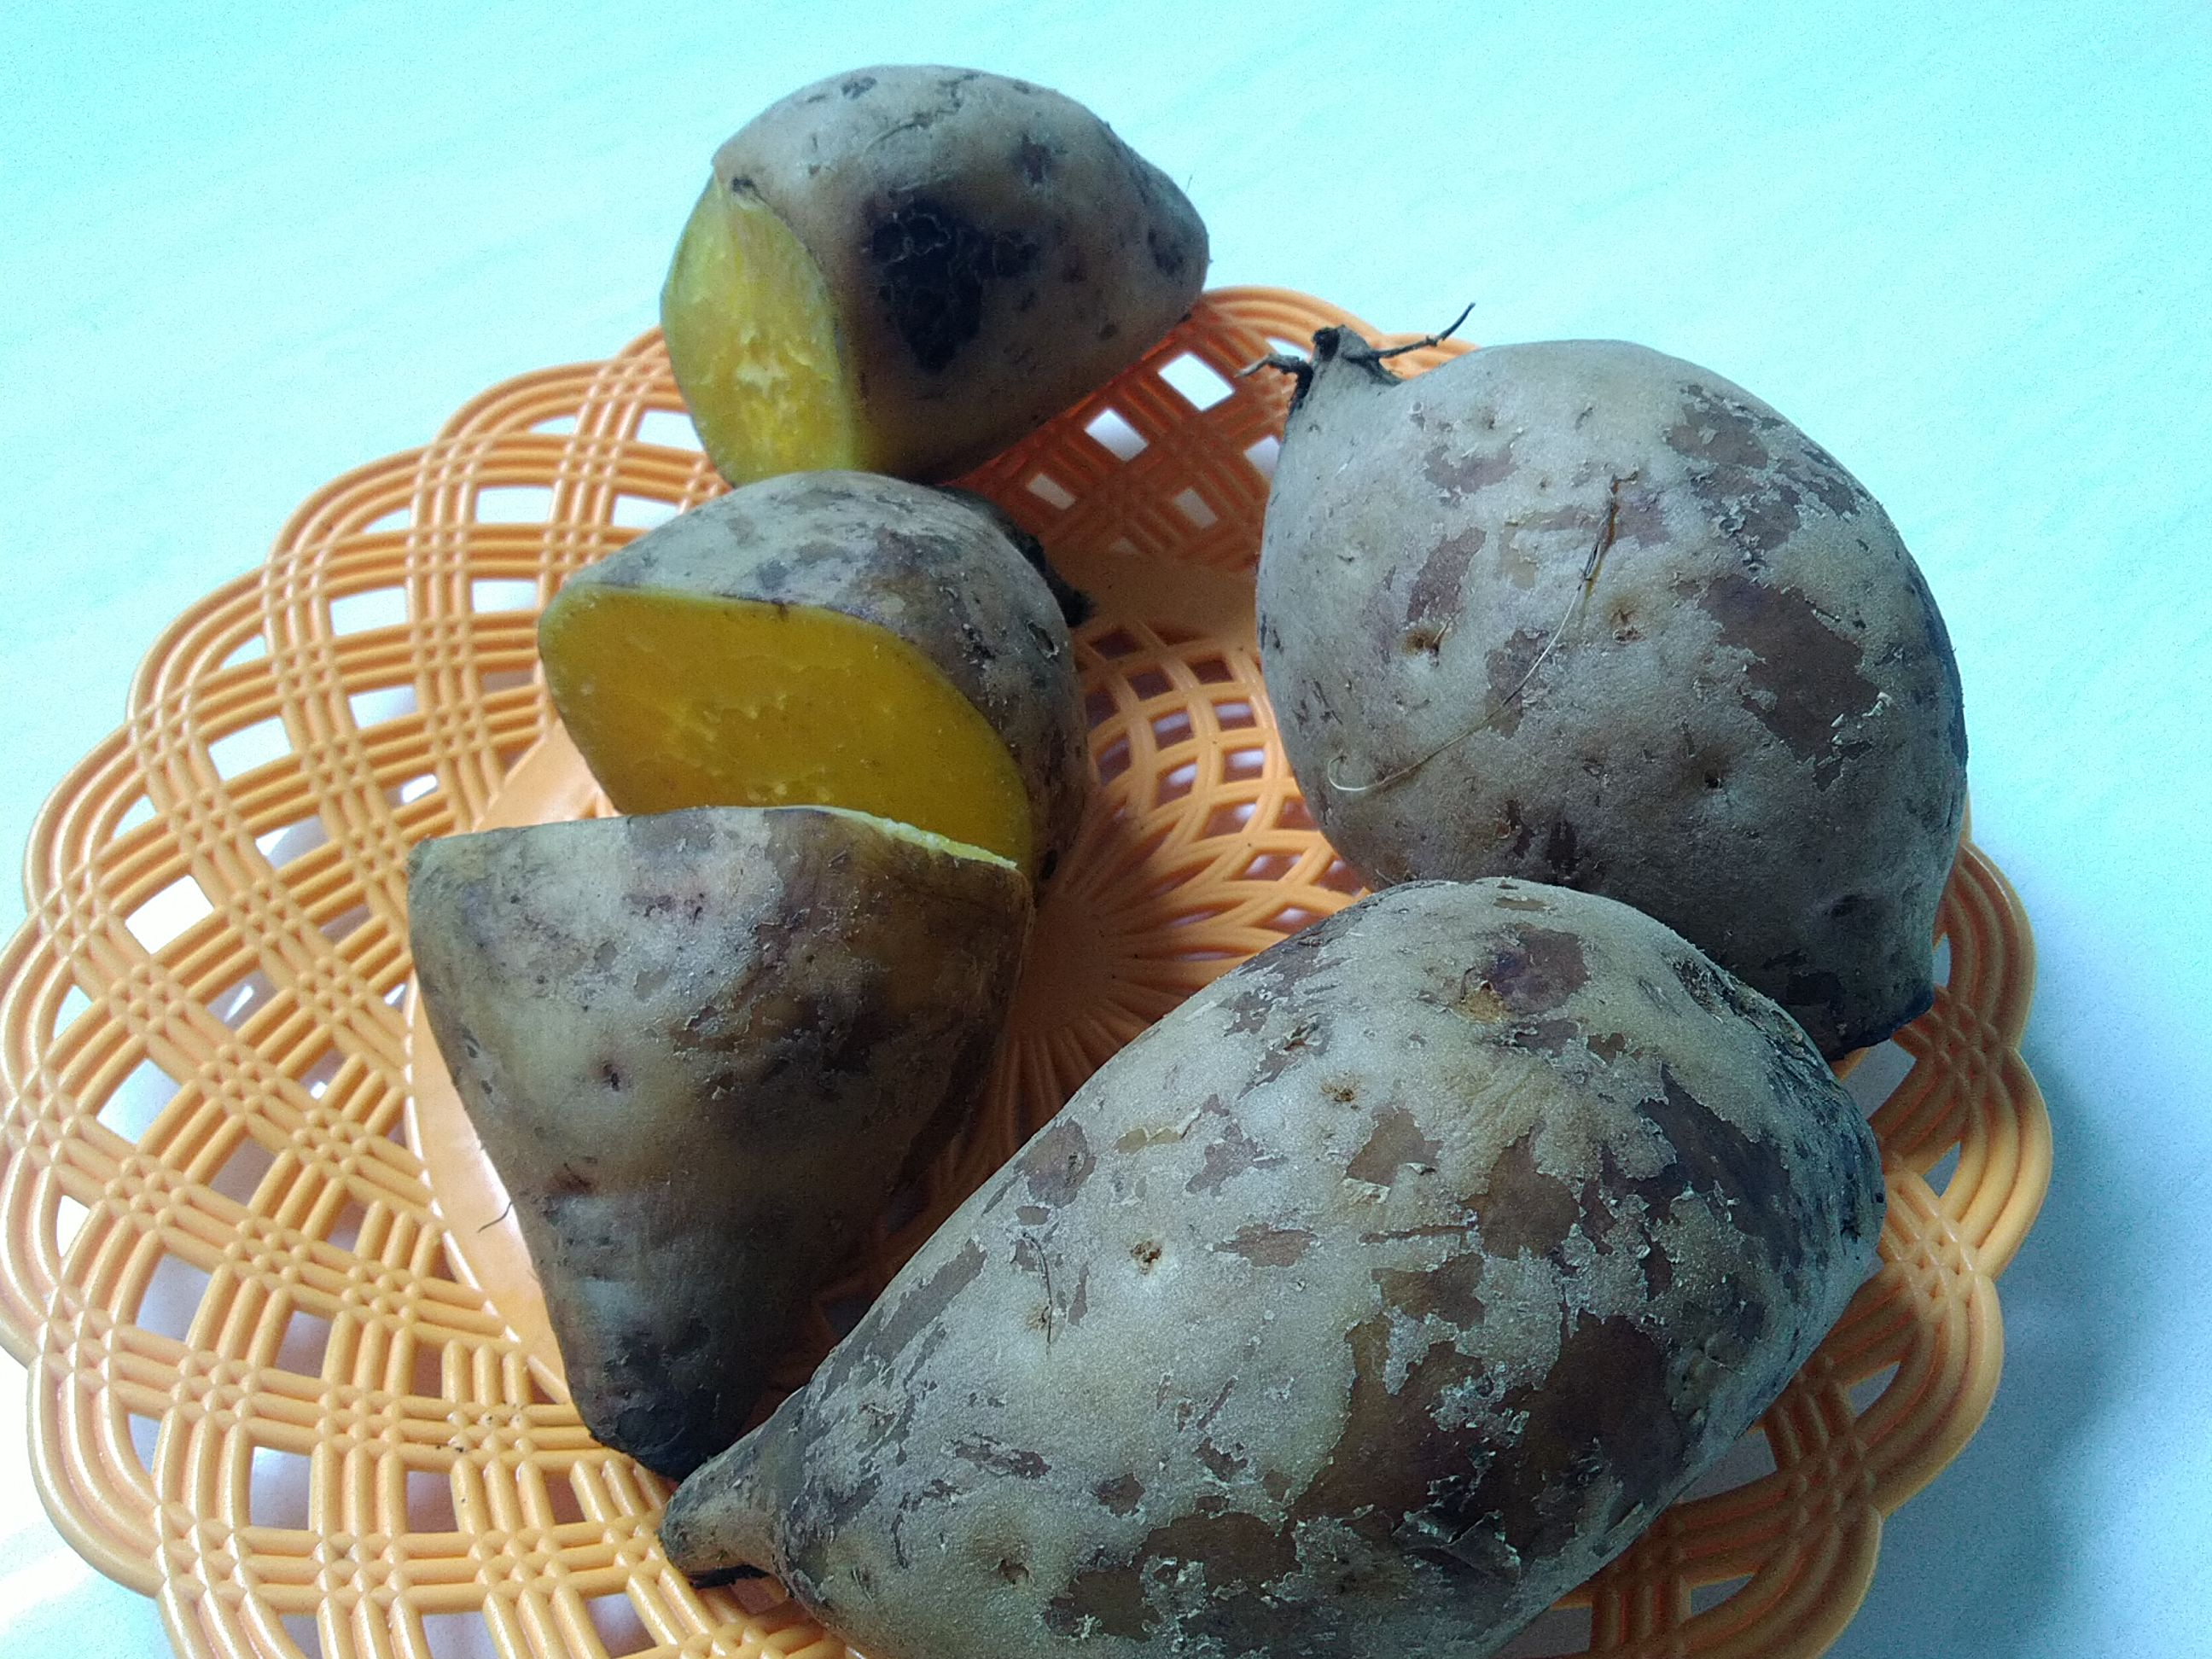ubi kuning: (390, 35, 1984, 1659), (643, 887, 1916, 1649), (1247, 303, 2017, 1042), (388, 809, 1042, 1445), (637, 52, 1223, 512), (500, 464, 1137, 885)
